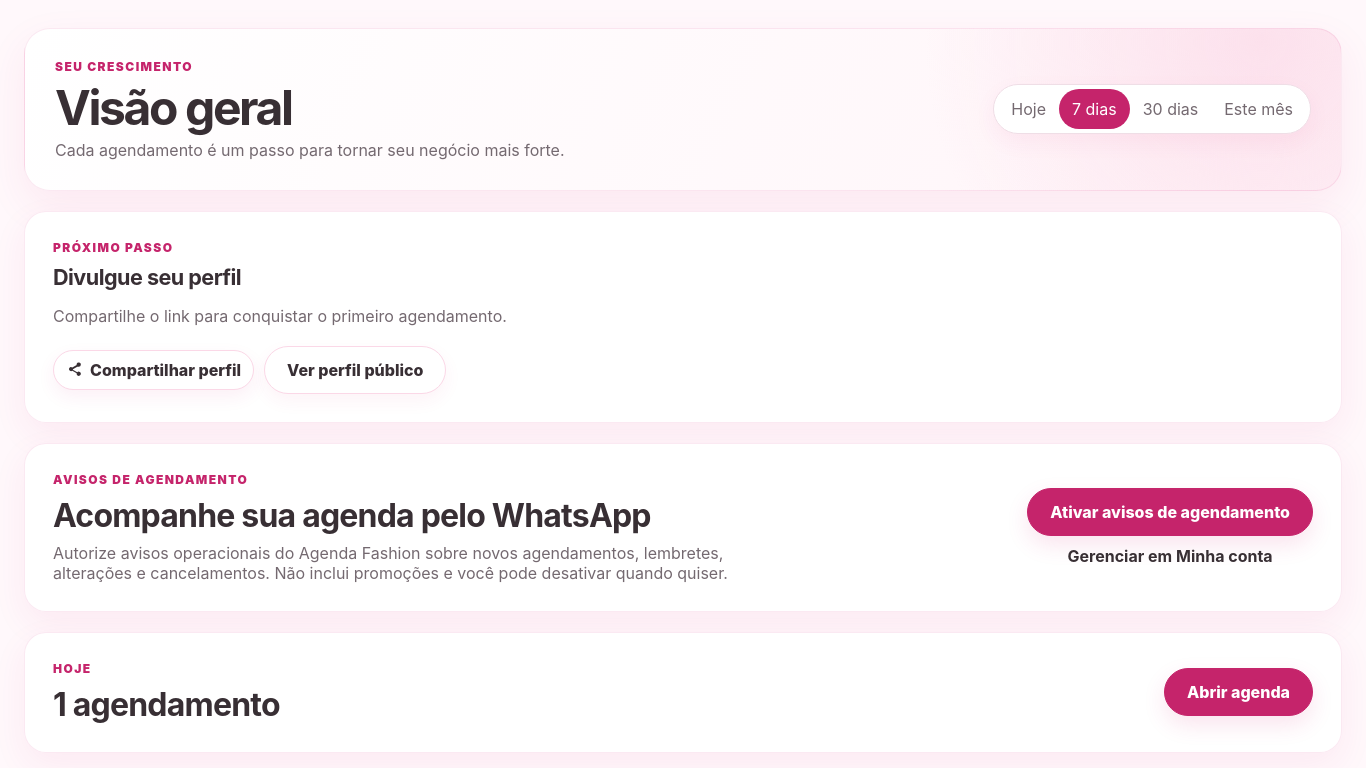
Test: dashboard › solicita consentimento operacional separado do marketing
Click the button "Ativar avisos de agendamento" at coordinates (1170, 512), box left=1027, top=488, right=1313, bottom=536
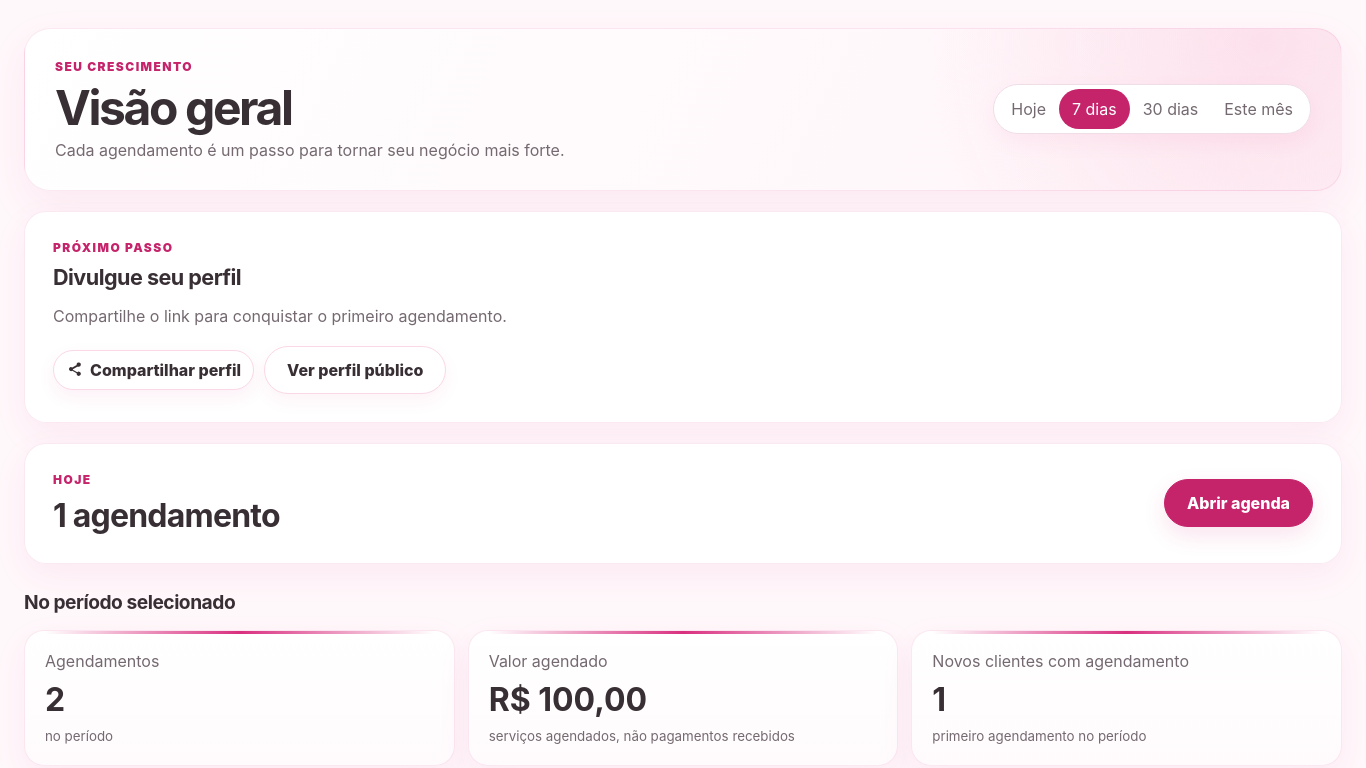
Now the button "Ativar avisos de agendamento" is gone
